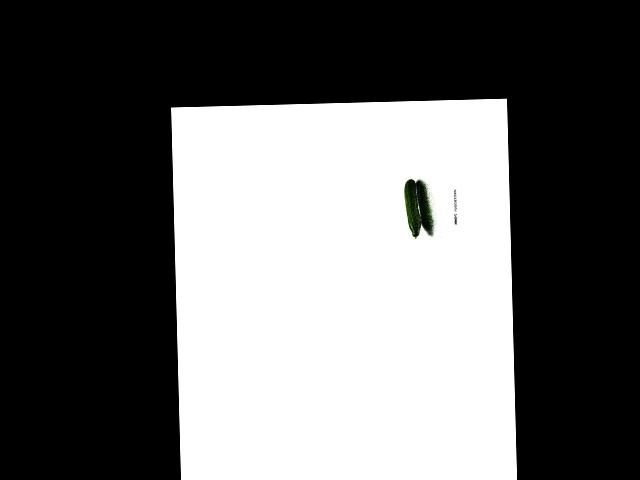cucumber: (404, 179, 421, 239)
